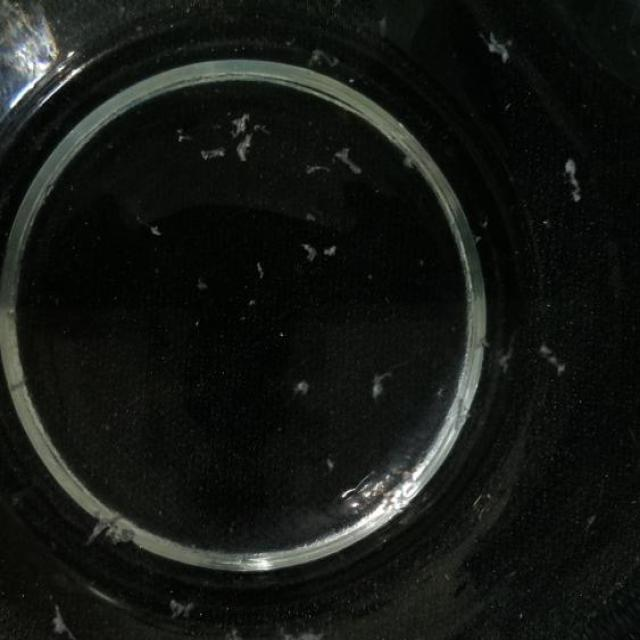fiber: (226, 111, 266, 167), (533, 340, 578, 379), (90, 512, 132, 544), (373, 360, 394, 411), (336, 149, 369, 178), (483, 30, 511, 64), (565, 163, 584, 203), (283, 621, 323, 640), (300, 160, 338, 180), (308, 50, 345, 70), (49, 605, 71, 637), (198, 146, 232, 166), (144, 219, 170, 245), (167, 596, 195, 620), (220, 620, 243, 640), (301, 242, 320, 264), (253, 258, 270, 282), (319, 241, 340, 259), (294, 376, 311, 394)
